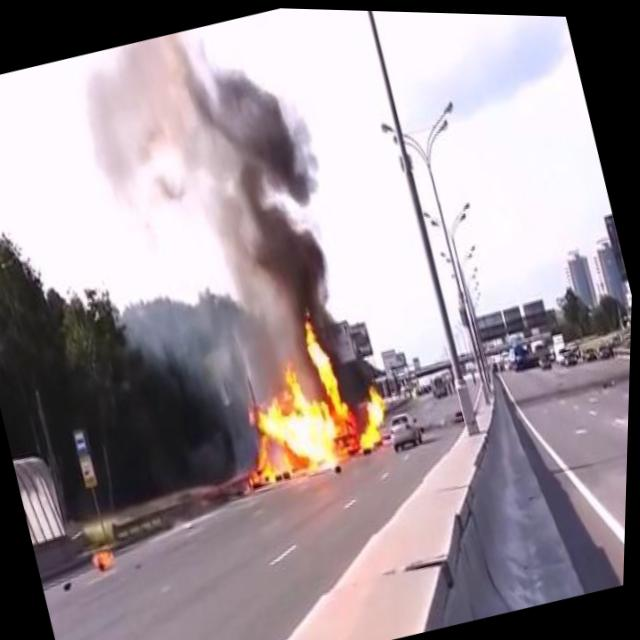fire: (207, 289, 404, 503), (90, 541, 122, 574)
